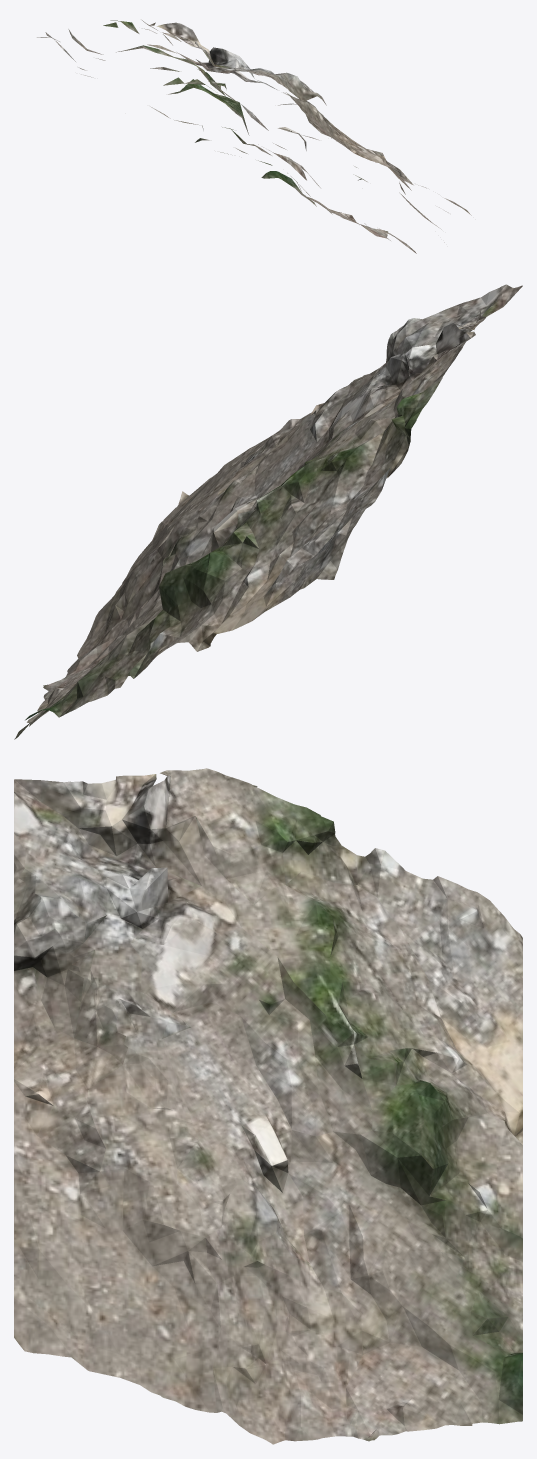
The picture shows the model from 3 angles, top to bottom: view 1: azimuth 30°, elevation 25°; view 2: azimuth 150°, elevation 25°; view 3: azimuth 270°, elevation 25°; orthographic projection. The views are drawn at different scales.
Size of the model in its own units: 5.9 by 5.9 by 5.9.
Materials: 3 (3 with a texture image).
